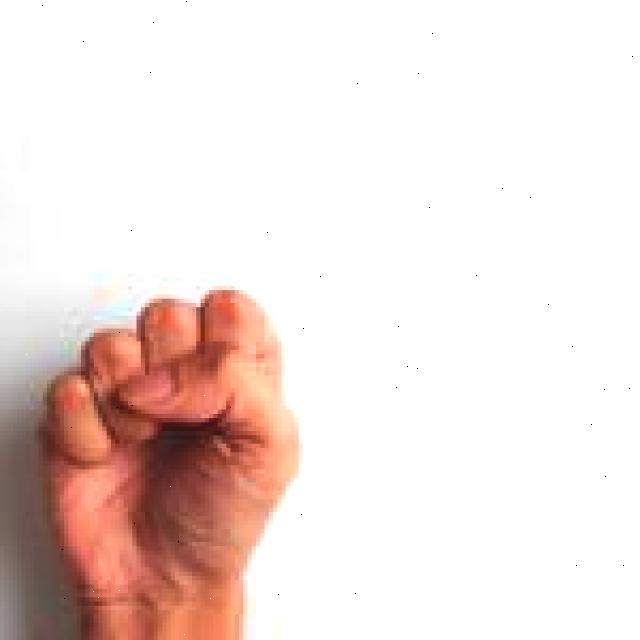S: (33, 286, 300, 640)
